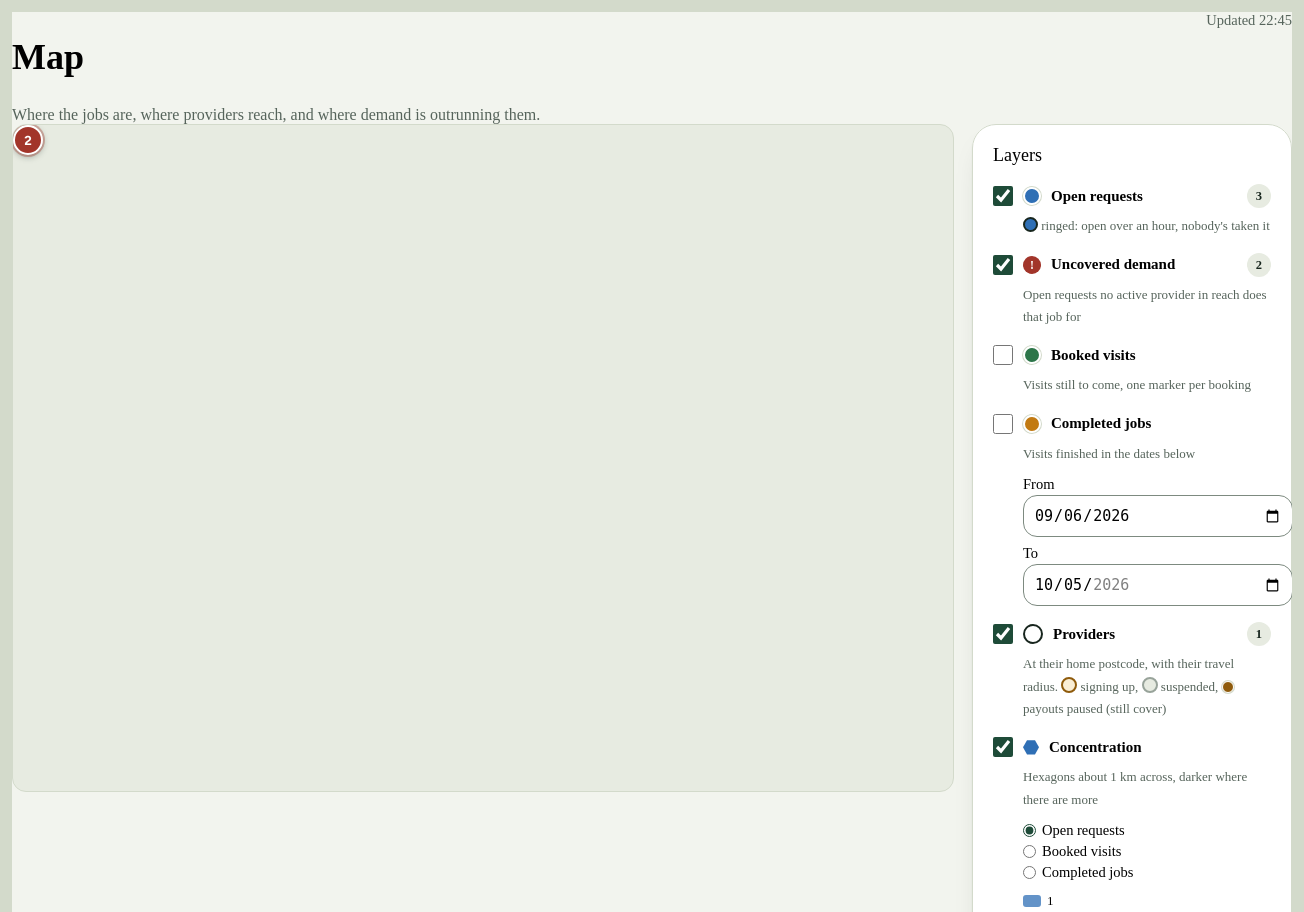
Test: the admin map › shows uncovered requests too close to tell apart as one button that zooms in
Click the button named "2 uncovered requests close together (R-2284, R-2295): zoom in".
click(28, 140)  # box [13,125,43,155]
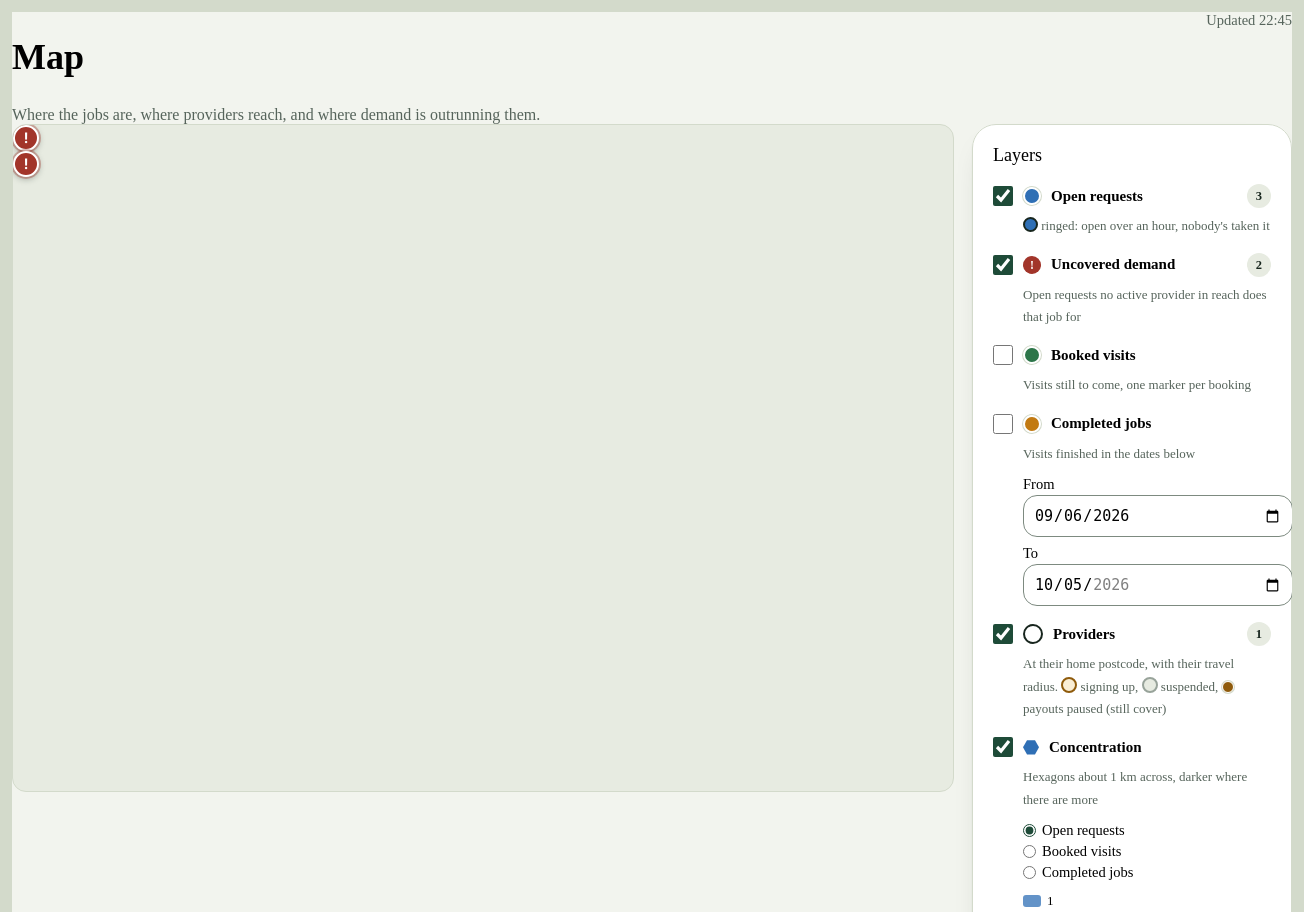
Expected: the button named "Uncovered: Lawn mowing in Princes Risborough, HP27 (R-2284)" is shown, [13,125,39,151]
Expected: the button named "Uncovered: Window cleaning in Princes Risborough, HP27 (R-2295)" is shown, [13,151,39,177]
